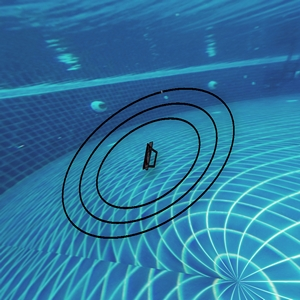circle: (54, 83, 257, 281)
submarine: (147, 141, 155, 170)
